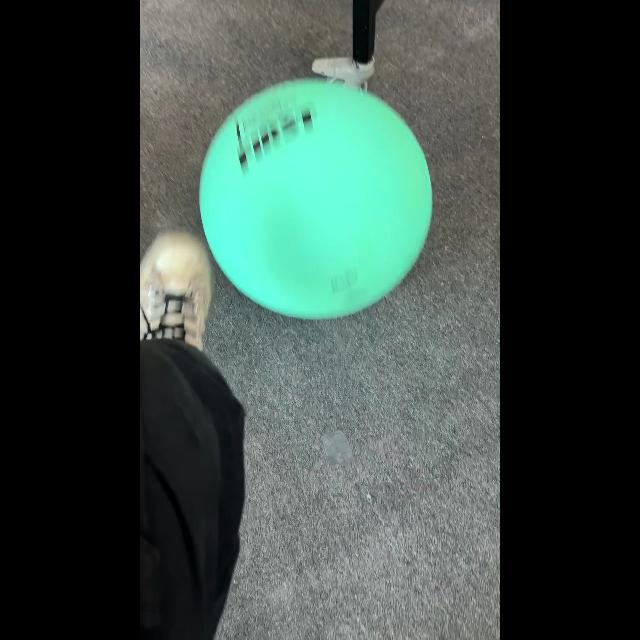ALGAE: (198, 77, 432, 320)
